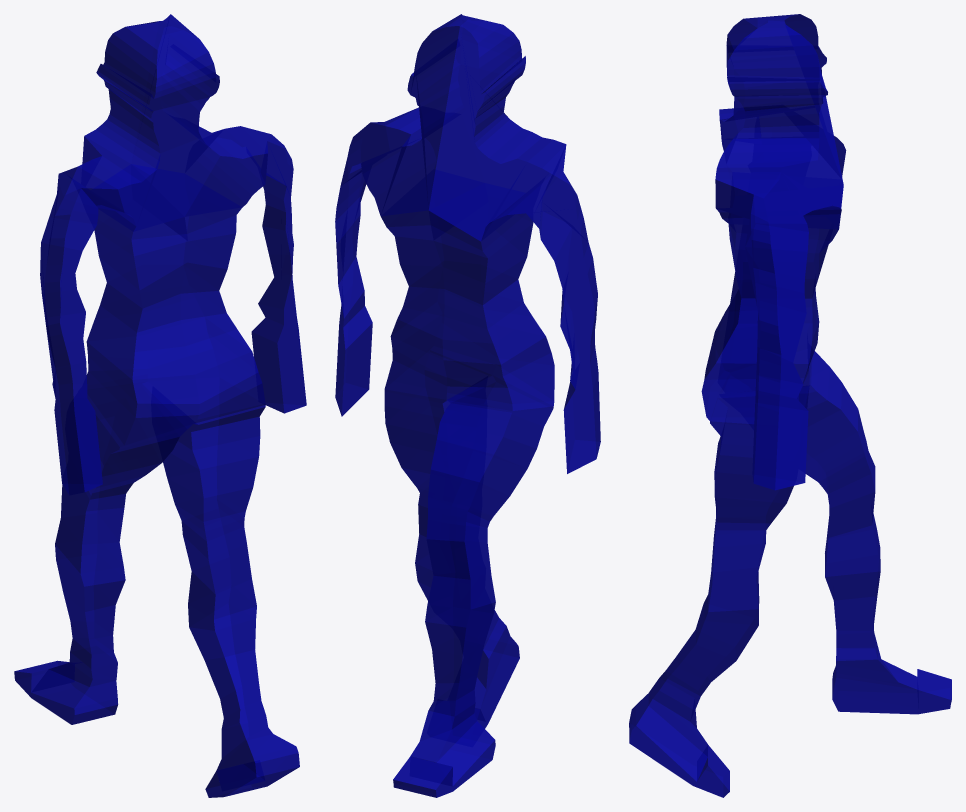
File: woman_000035.obj
The picture shows the model from 3 angles, left to right: view 1: azimuth 30°, elevation 25°; view 2: azimuth 150°, elevation 25°; view 3: azimuth 270°, elevation 25°; orthographic projection.
Visible parts, largest first — view 1: Cube_Cube.001; view 2: Cube_Cube.001; view 3: Cube_Cube.001.
Boxes of the visible parts, left/top/right/bottom form: Cube_Cube.001: left=14, top=14, right=306, bottom=797; Cube_Cube.001: left=335, top=14, right=600, bottom=797; Cube_Cube.001: left=629, top=14, right=951, bottom=797.
Size of the model in its own units: 3.63 by 10.25 by 4.01.
